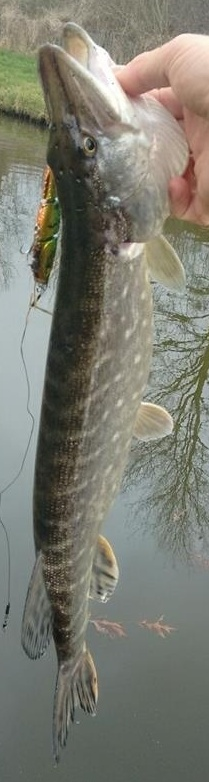Esox lucius: (20, 20, 189, 762)
